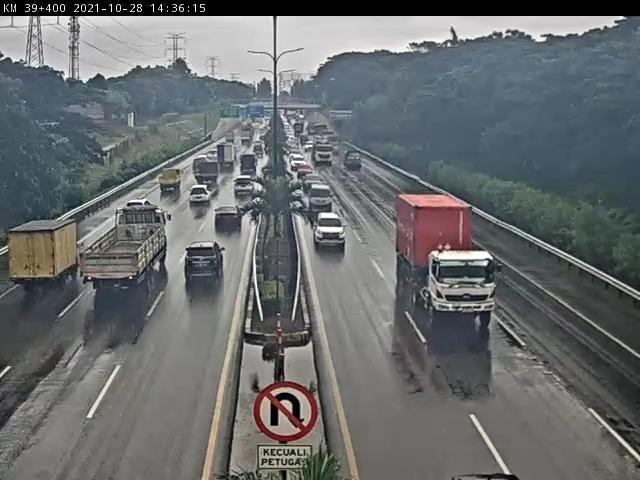car: (184, 241, 226, 285), (313, 208, 345, 244), (308, 183, 335, 212), (213, 205, 243, 230), (187, 185, 213, 206), (232, 174, 256, 196), (124, 200, 154, 215), (305, 173, 326, 193)
truck: (398, 195, 501, 328), (81, 208, 171, 295), (9, 219, 81, 291), (194, 160, 221, 186), (158, 169, 184, 194)
